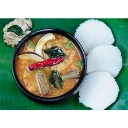idly: (82, 71, 120, 109), (86, 45, 123, 76), (75, 19, 113, 46)
